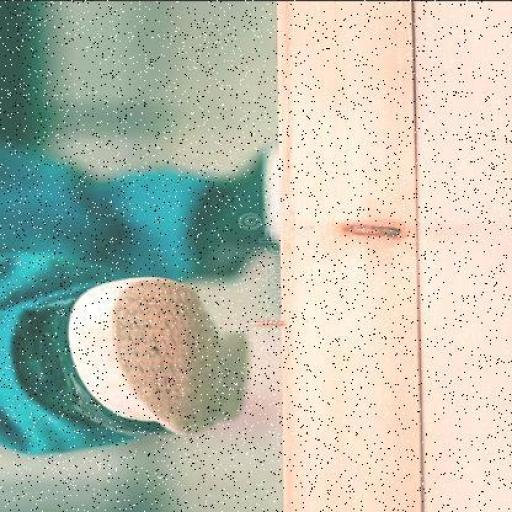safety_shoe: (19, 290, 247, 439), (189, 148, 289, 277)
